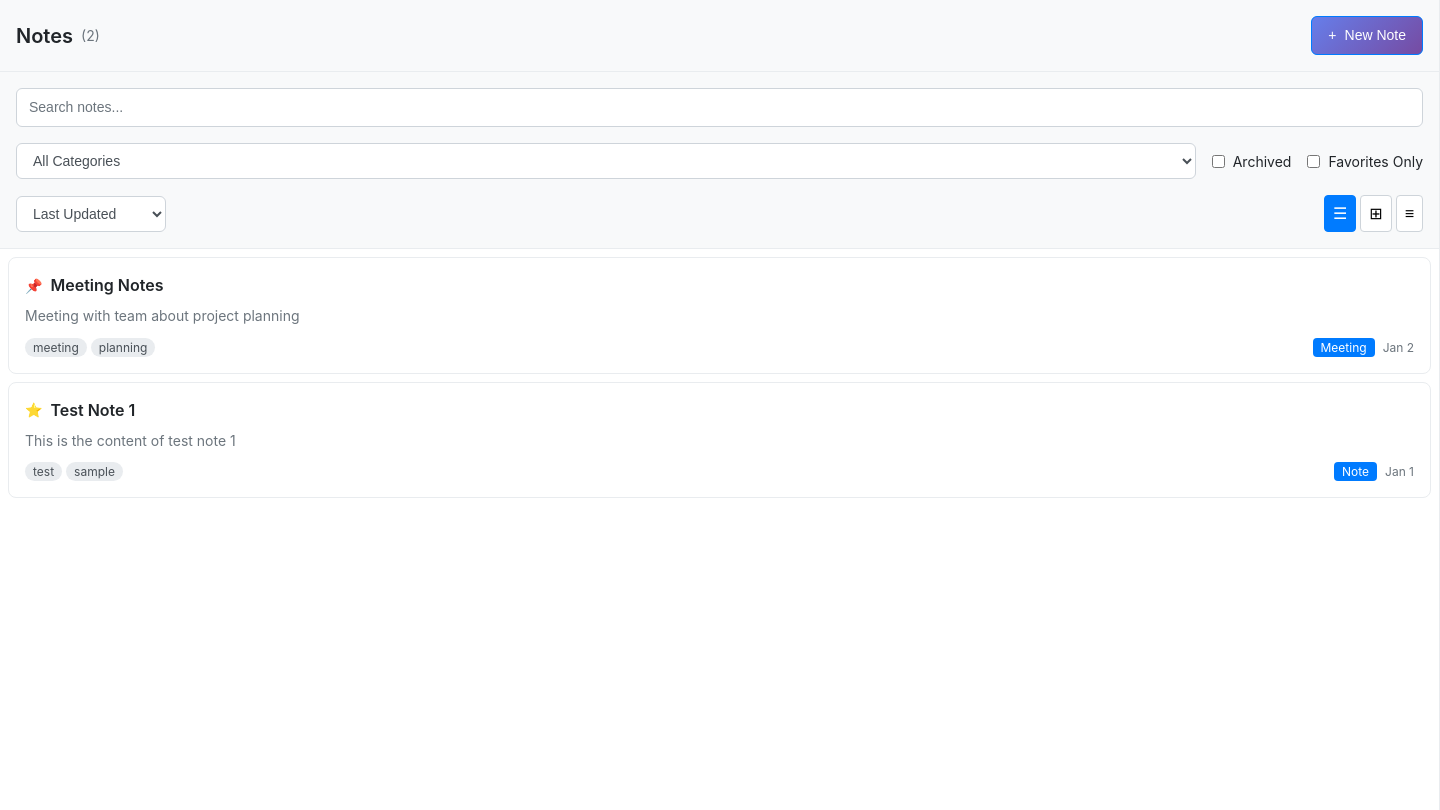
Test: NotesList › shows archived notes when archive filter is enabled
Click the checkbox labelled "Archived".
click(1218, 161)  # box [1212,154,1225,168]
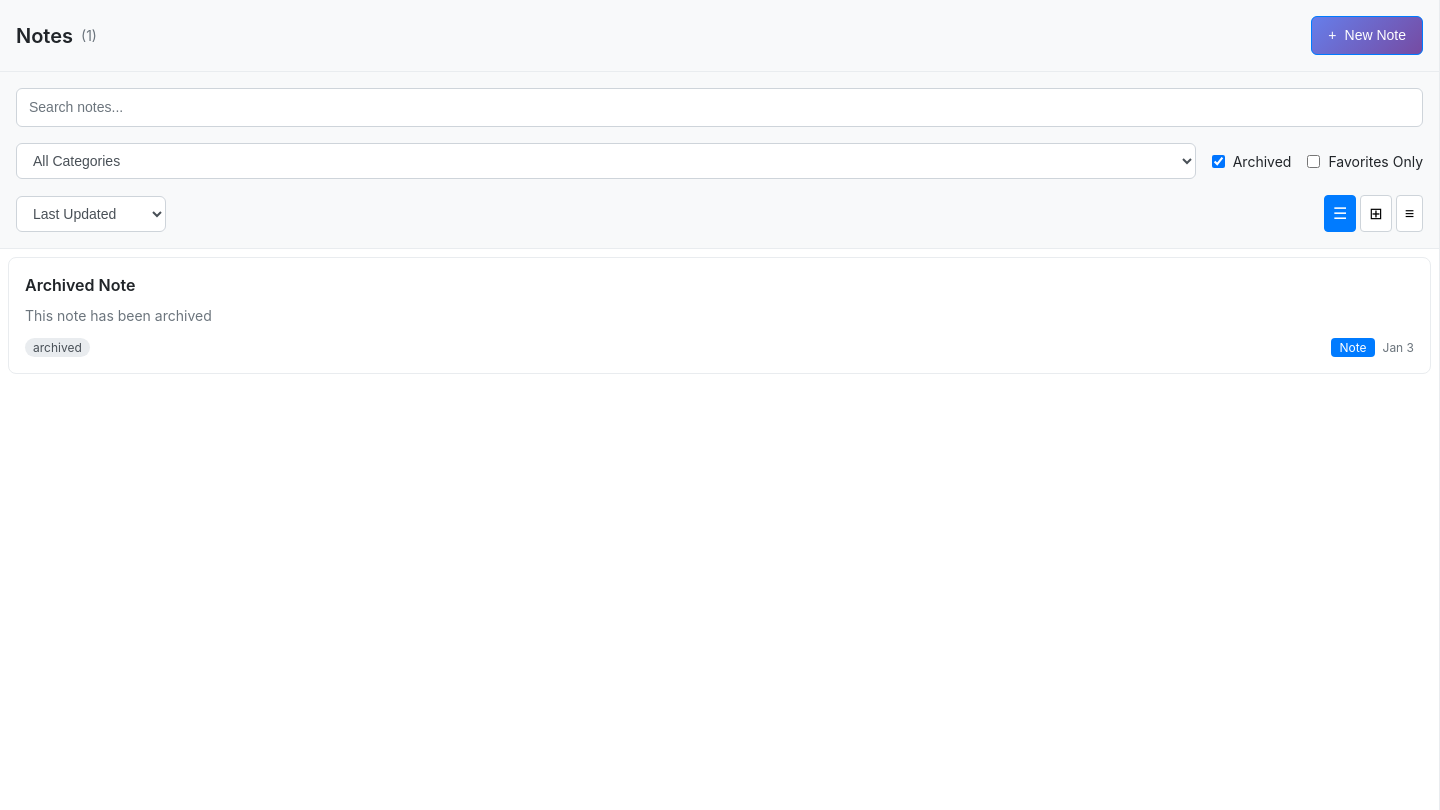
expect the heading "Archived Note" is shown: met, box [25,274,135,296]
